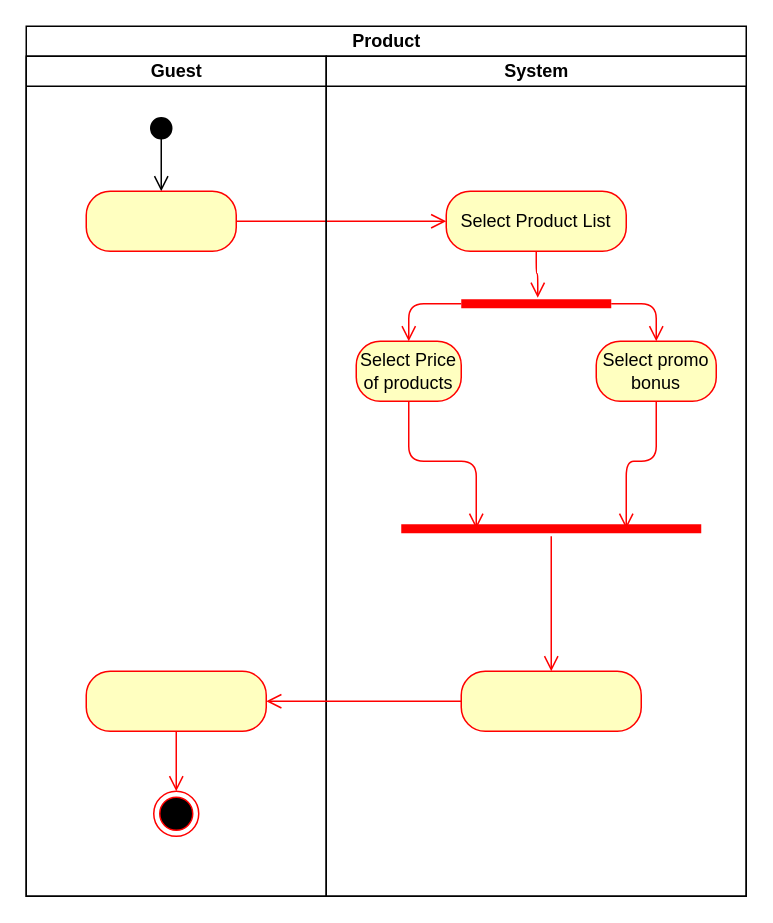
This 773x923 diagram has some shape labels left out. Each missing label, with the box of its shape:
Display Product List: (460, 670, 641, 731)
Select Product Type: (85, 190, 236, 251)
View Product List: (85, 670, 266, 731)
